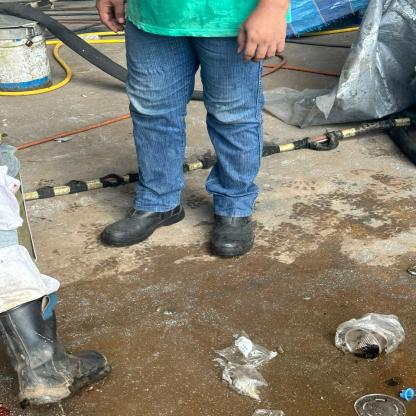bota: (86, 189, 188, 248), (197, 201, 259, 263)
